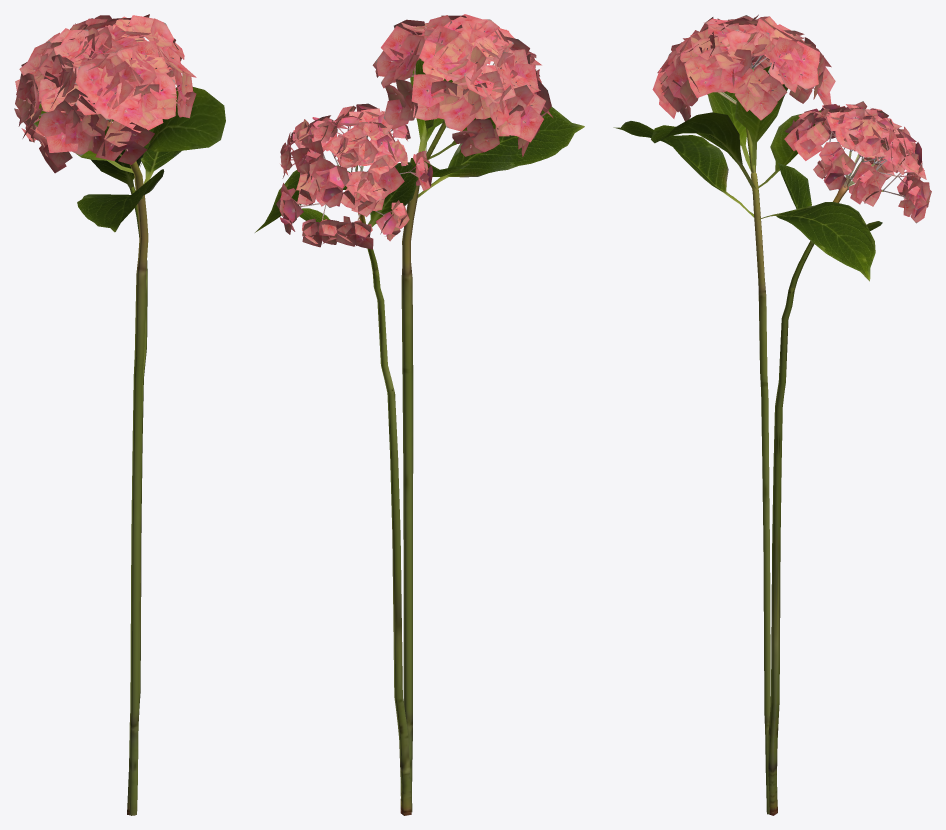
File: Hydrangea_bush_long_red.glb
3 renders of one model, left to right at view 1: azimuth 30°, elevation 25°; view 2: azimuth 150°, elevation 25°; view 3: azimuth 270°, elevation 25°, orthographic. The views are drawn at different scales.
Parts seen in each view (by area): view 1: BUSHEKK; view 2: BUSHEKK; view 3: BUSHEKK.
Part boxes in pixels (box(x1,y1,x2,y2)): BUSHEKK: box(14, 14, 225, 815); BUSHEKK: box(255, 14, 584, 815); BUSHEKK: box(613, 14, 931, 815).
Size of the model in its own units: 1.48 by 5.02 by 1.87.
Materials: 1 (1 with a texture image).
